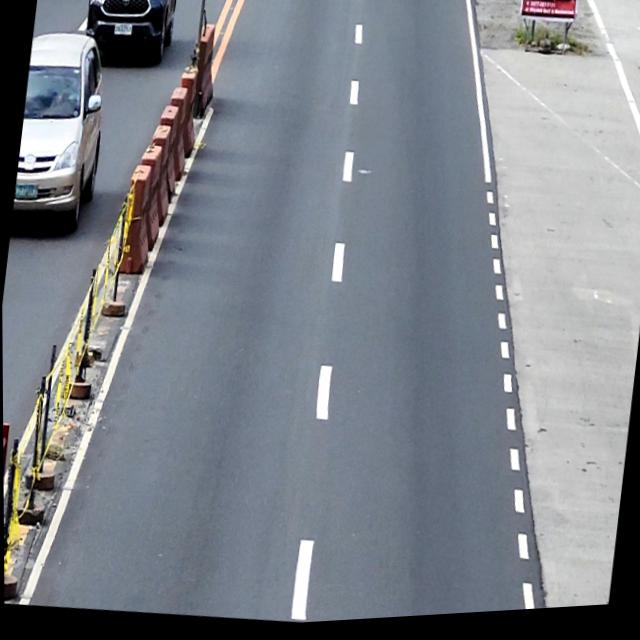Car: (9, 27, 113, 239), (80, 0, 180, 68)
License-Plate: (14, 182, 39, 201), (113, 22, 133, 38)
